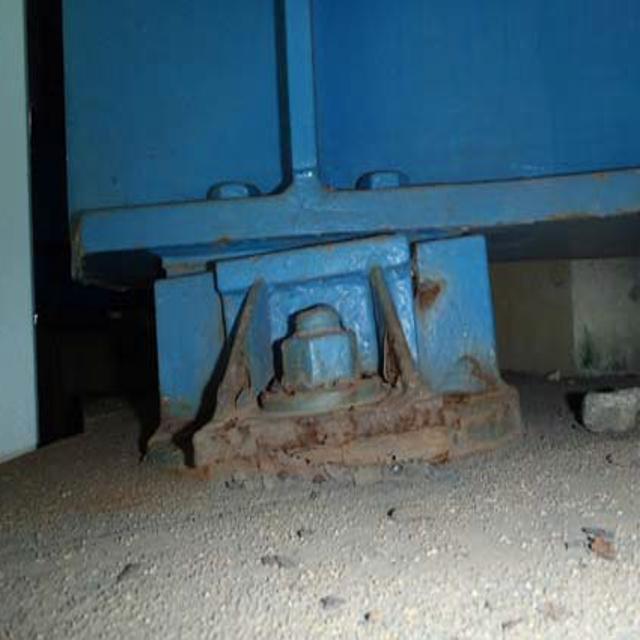corrosion: (167, 270, 474, 487)
